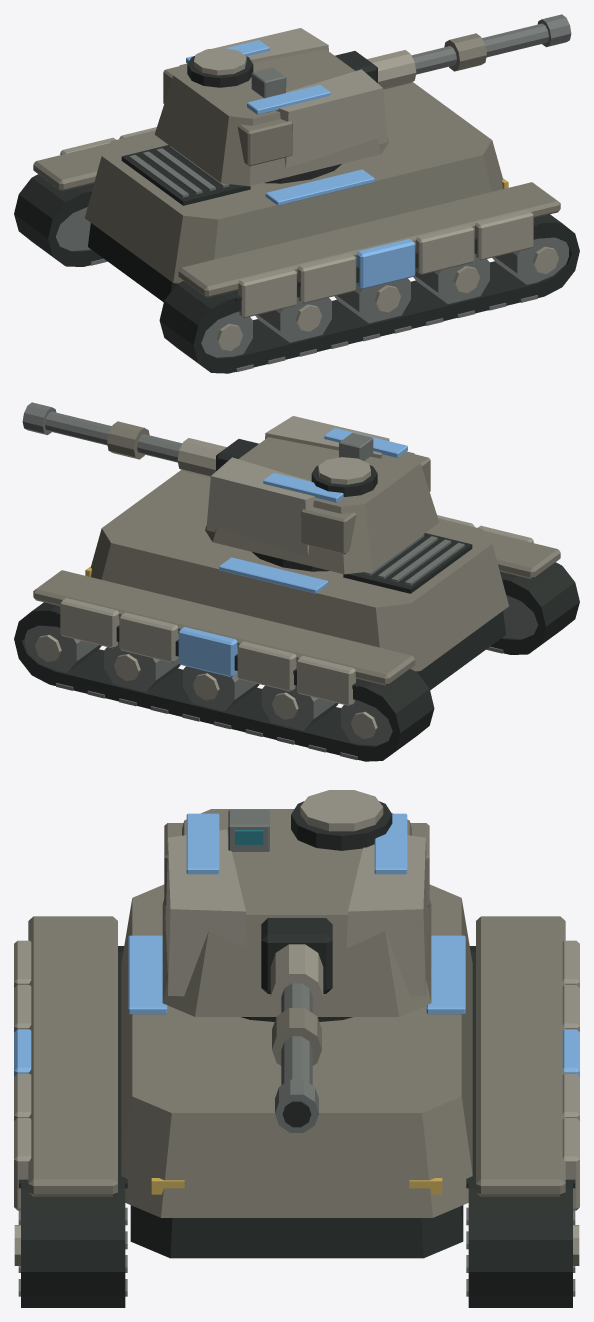
File: vanguard.glb
3 renders of one model, top to bottom at view 1: azimuth 30°, elevation 25°; view 2: azimuth 150°, elevation 25°; view 3: azimuth 270°, elevation 25°, orthographic. The views are drawn at different scales.
Visible parts, largest first — view 1: Hull, Turret; view 2: Hull, Turret; view 3: Hull, Turret.
Boxes of the visible parts, <box> form: Hull: <box>14,82,579,373</box>; Turret: <box>154,14,571,186</box>; Hull: <box>14,470,579,761</box>; Turret: <box>22,402,439,574</box>; Hull: <box>14,884,579,1307</box>; Turret: <box>162,790,431,1132</box>.
Size of the model in its own units: 2.75 by 1.23 by 1.9.
